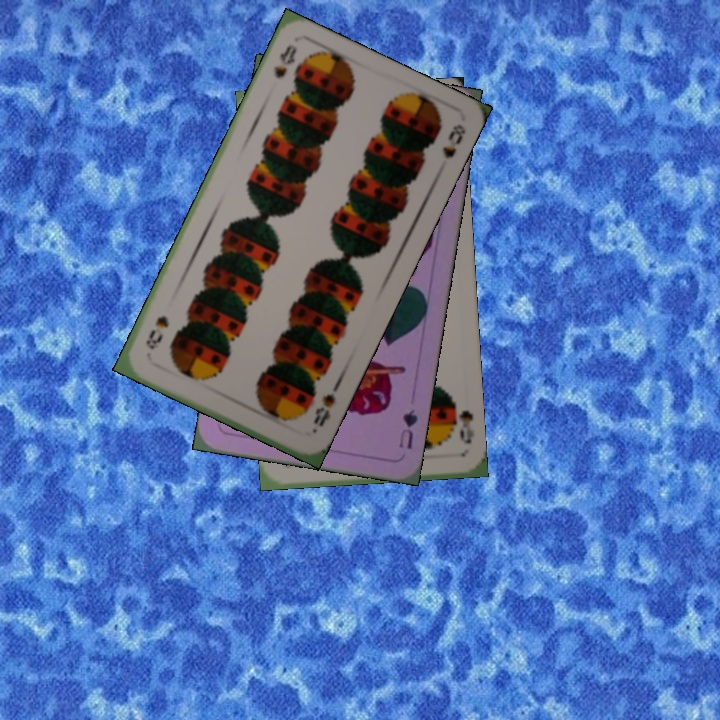GU: (394, 405, 421, 452)
S8: (309, 382, 341, 429), (269, 40, 300, 81)
SO: (455, 406, 476, 446)
